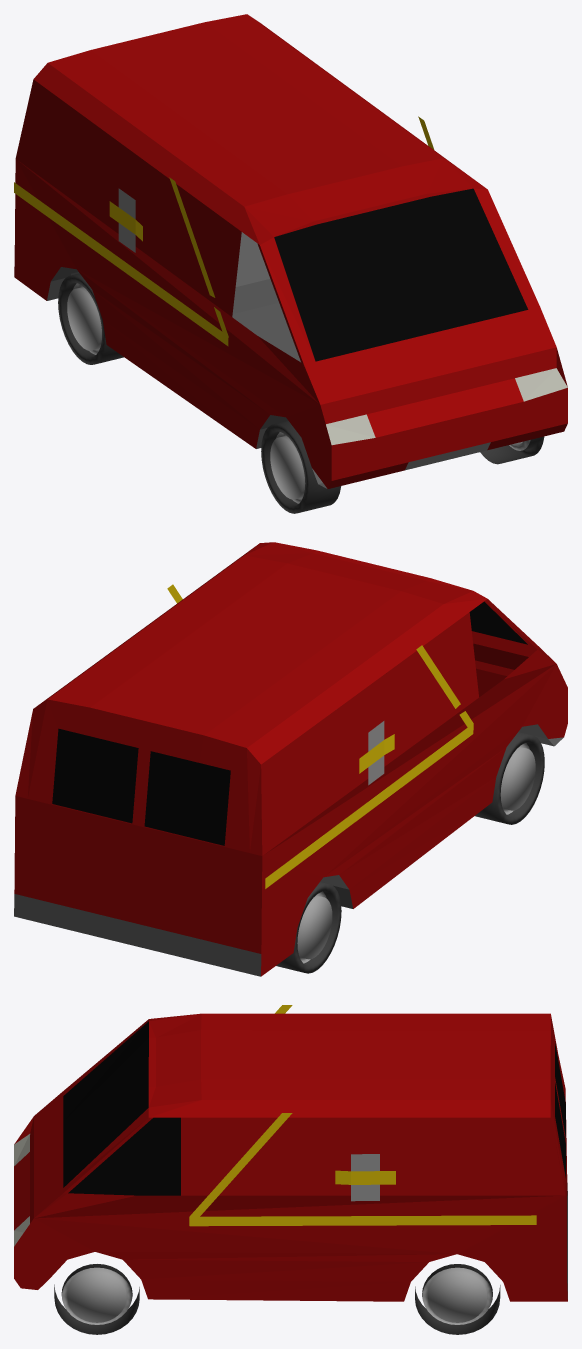
Rendered from ford-transit.dae.
3 renders of one model, top to bottom at view 1: azimuth 30°, elevation 25°; view 2: azimuth 150°, elevation 25°; view 3: azimuth 270°, elevation 25°, orthographic. The views are drawn at different scales.
Parts seen in each view (by area): view 1: Cube_001, Plane; view 2: Cube_001, Plane_005, Plane_004, Plane; view 3: Cube_001, Plane_024, Plane_005, Plane_004.
Boxes of the visible parts, x1=… form: Cube_001: x1=14, y1=14, x2=567, y2=513; Plane: x1=14, y1=177, x2=228, y2=346; Cube_001: x1=14, y1=542, x2=567, y2=976; Plane_005: x1=144, y1=751, x2=230, y2=845; Plane_004: x1=52, y1=728, x2=138, y2=823; Plane: x1=265, y1=645, x2=473, y2=888; Cube_001: x1=14, y1=1013, x2=567, y2=1334; Plane_024: x1=189, y1=1113, x2=536, y2=1226; Plane_005: x1=555, y1=1043, x2=565, y2=1137; Plane_004: x1=555, y1=1083, x2=565, y2=1177.
Size of the model in its own units: 1.42 by 3.04 by 1.39.
